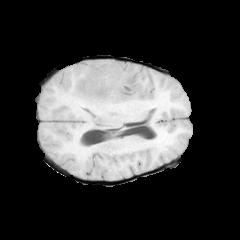glioma: (71, 70, 137, 110)
